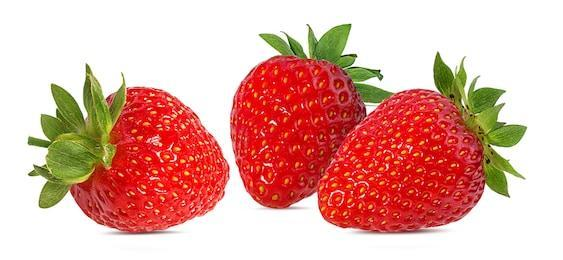Fresa: (315, 85, 499, 239), (61, 82, 233, 236), (228, 49, 374, 214)
